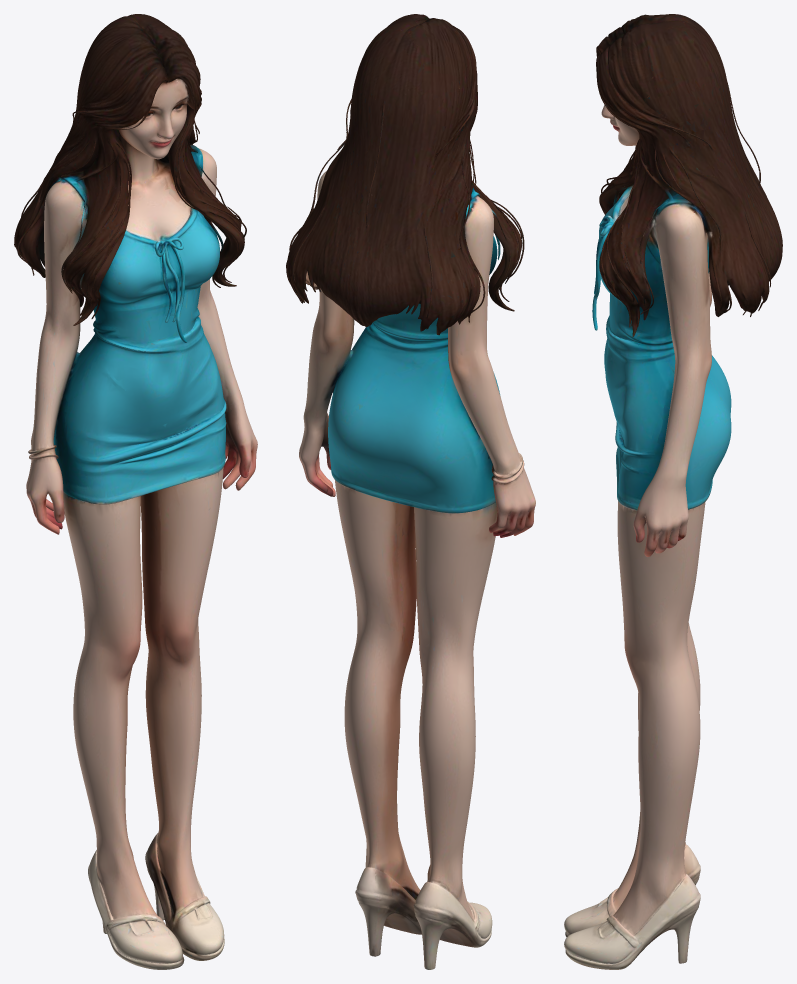
Rendered from long-hair-mini-dress.glb.
The picture shows the model from 3 angles, left to right: view 1: azimuth 30°, elevation 25°; view 2: azimuth 150°, elevation 25°; view 3: azimuth 270°, elevation 25°; orthographic projection. The views are drawn at different scales.
Parts seen in each view (by area): view 1: node_0.009; view 2: node_0.009; view 3: node_0.009.
Part boxes in pixels (x1,y1,x2,y2): node_0.009: (14,14,257,969); node_0.009: (286,14,535,969); node_0.009: (564,14,782,969).
Bounding box in the file's own units: 0.3046 × 1.18 × 0.2514.
Materials: 1 (1 with a texture image).
